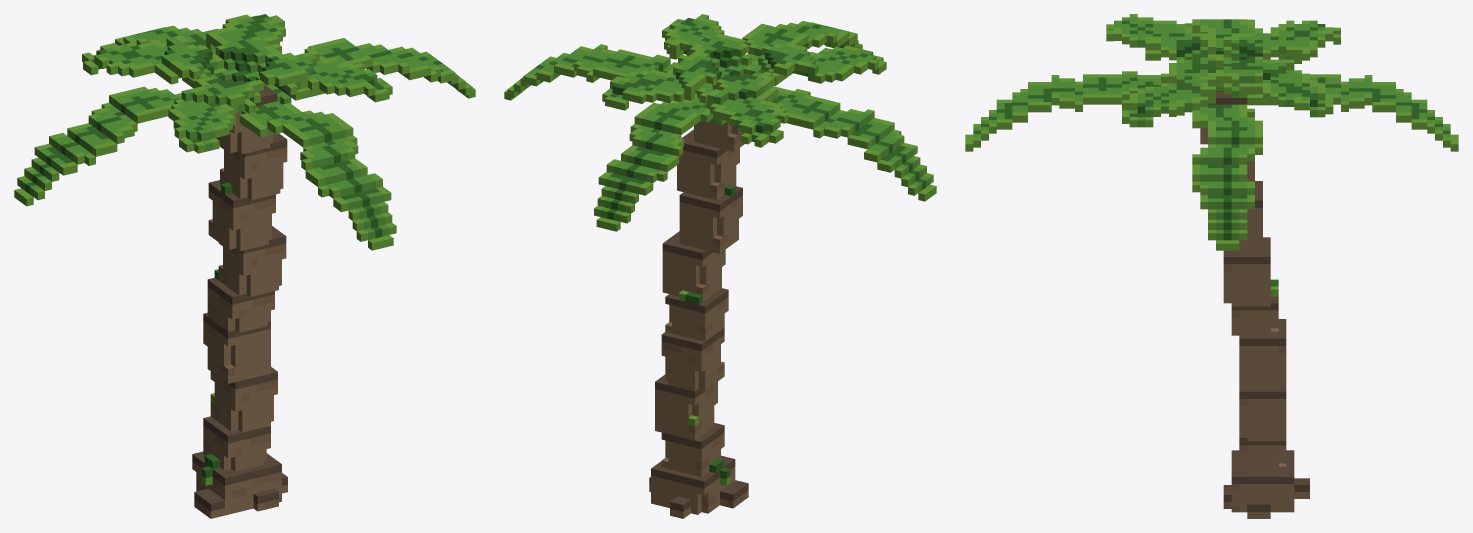
File: palm.obj
3 renders of one model, left to right at view 1: azimuth 30°, elevation 25°; view 2: azimuth 150°, elevation 25°; view 3: azimuth 270°, elevation 25°, orthographic. The views are drawn at different scales.
Parts seen in each view (by area): view 1: PalmTree_Medium-8; view 2: PalmTree_Medium-8; view 3: PalmTree_Medium-8.
Part boxes in pixels (x1=…): PalmTree_Medium-8: x1=14, y1=14, x2=475, y2=518; PalmTree_Medium-8: x1=504, y1=14, x2=936, y2=518; PalmTree_Medium-8: x1=965, y1=14, x2=1458, y2=518.
Bounding box in the file's own units: 1.26 × 1.22 × 1.26.
1 material, 1 textured.
